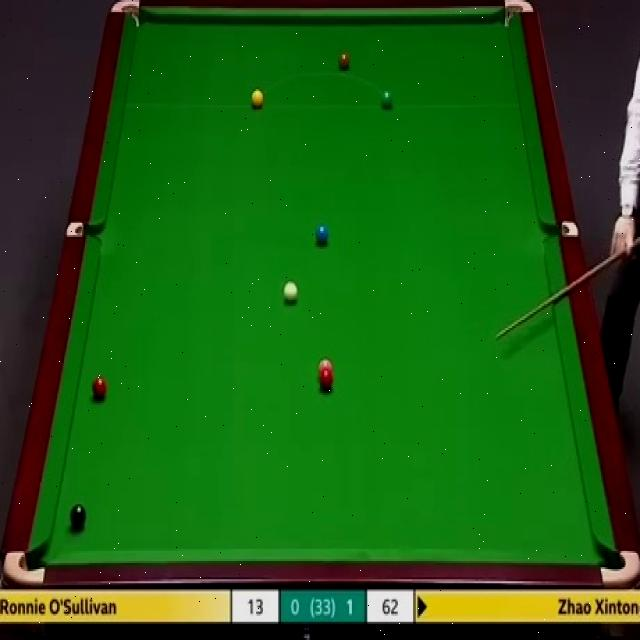black-ball: (68, 506, 87, 531)
blue-ball: (315, 223, 330, 244)
brown-ball: (337, 51, 351, 72)
green-ball: (380, 88, 393, 109)
pink-ball: (316, 358, 334, 368)
red-ball: (90, 376, 108, 402), (319, 370, 332, 392)
white-ball: (284, 282, 298, 304)
yellow-ball: (251, 90, 264, 110)
